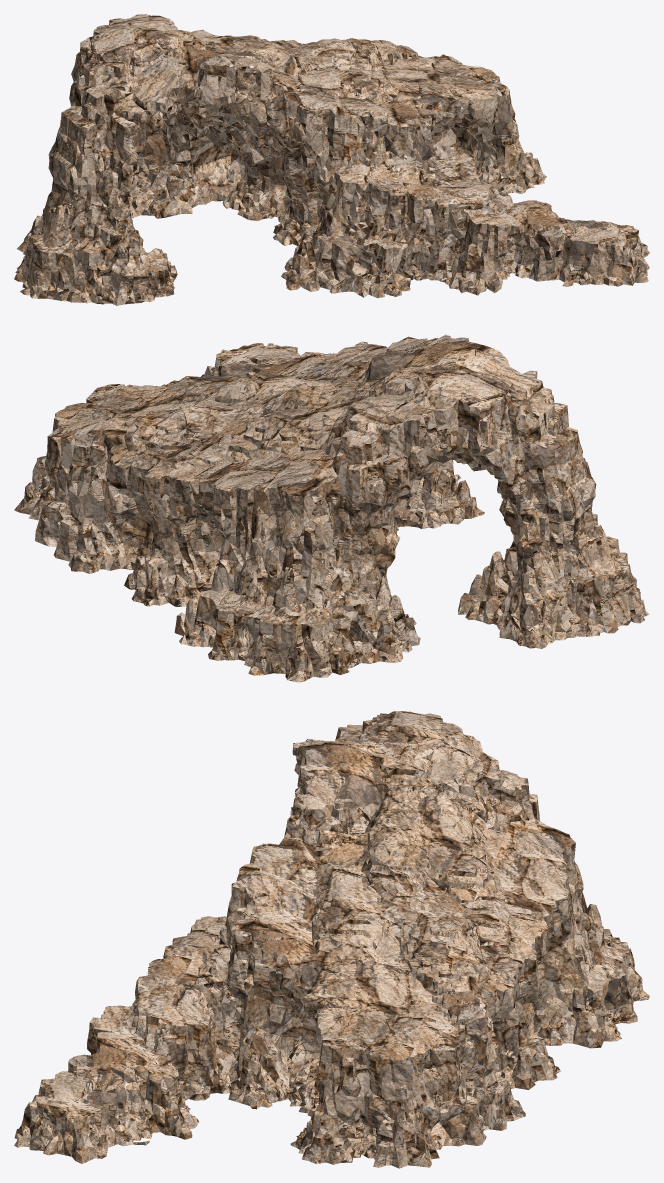
File: Snapper Caves Main Rock.fbx
3 renders of one model, top to bottom at view 1: azimuth 30°, elevation 25°; view 2: azimuth 150°, elevation 25°; view 3: azimuth 270°, elevation 25°, orthographic. The views are drawn at different scales.
Visible parts, largest first — view 1: world; view 2: world; view 3: world.
Part boxes in pixels (x1=…): world: x1=14, y1=14, x2=649, y2=305; world: x1=14, y1=334, x2=649, y2=682; world: x1=14, y1=711, x2=649, y2=1168.
Bounding box in the file's own units: 199 × 75.19 × 185.
Materials: 1 (1 with a texture image).
